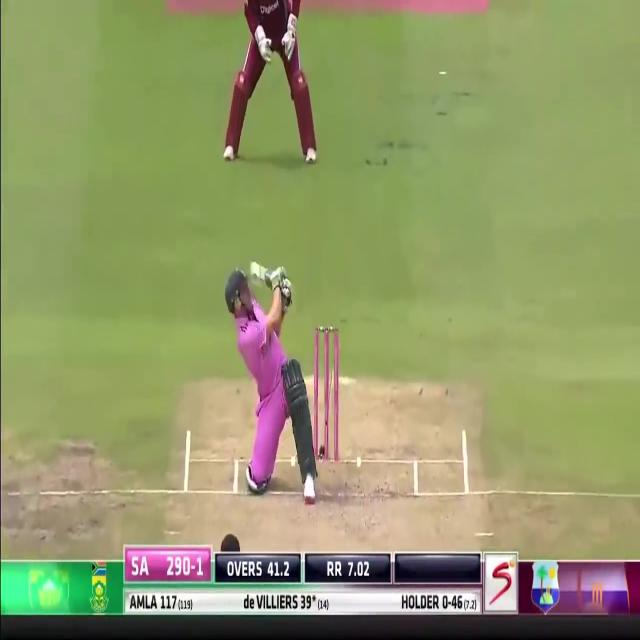Ball: (219, 255, 323, 499)
